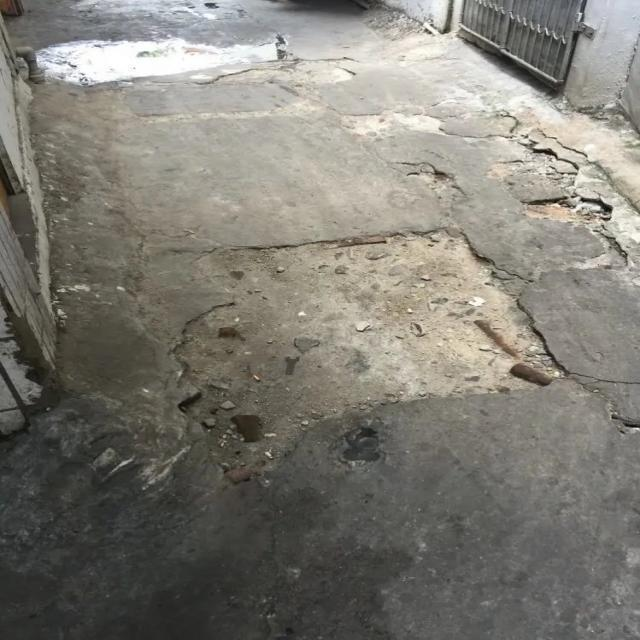pothole: (162, 228, 584, 483), (470, 122, 633, 275), (27, 38, 299, 90)
